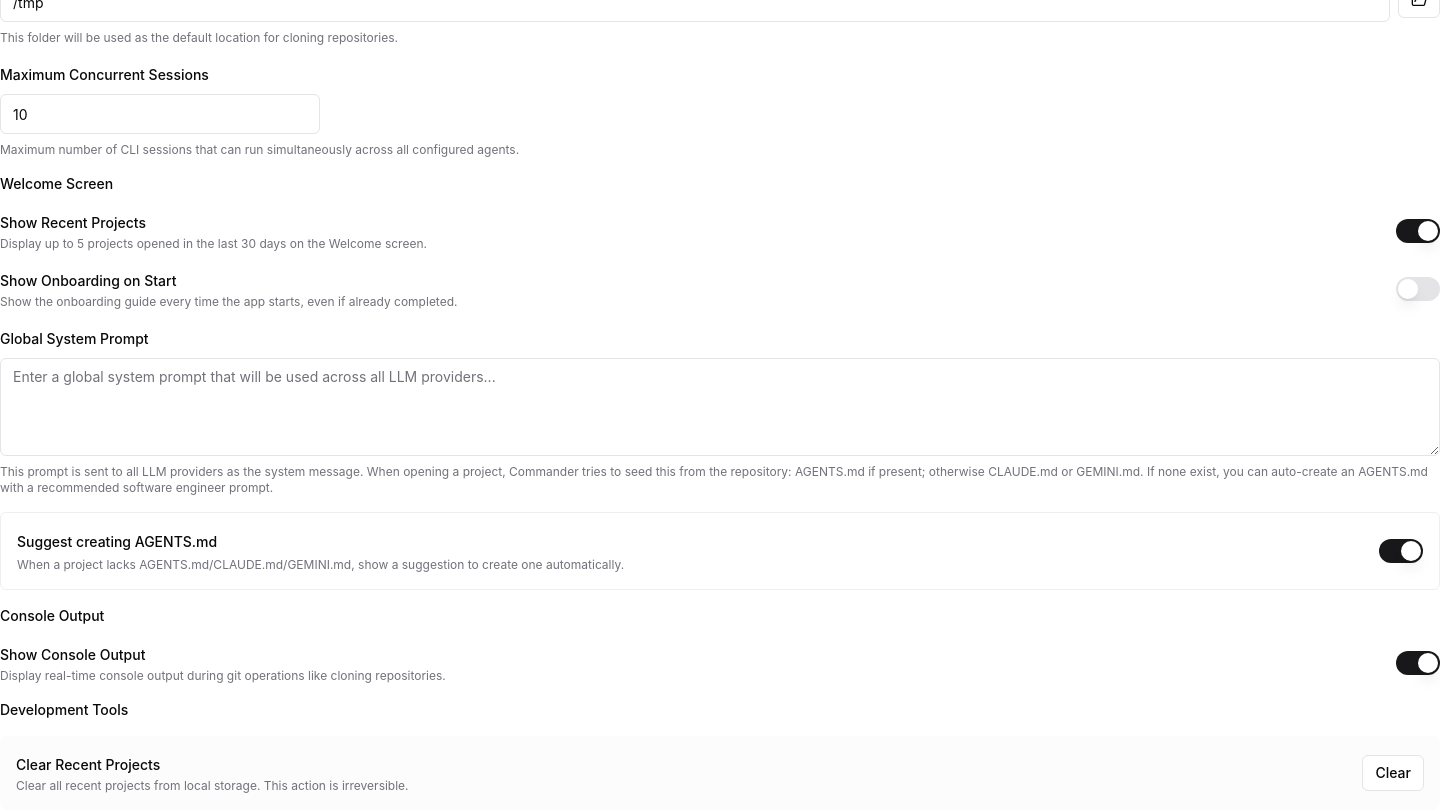
Scenario: GeneralSettings clear recent projects confirmation › opens confirmation dialog and cancels without clearing
The image size is (1440, 810).
(page scrolled)
Click the button "Clear" at point(1393, 773), box [1362,755,1424,791]
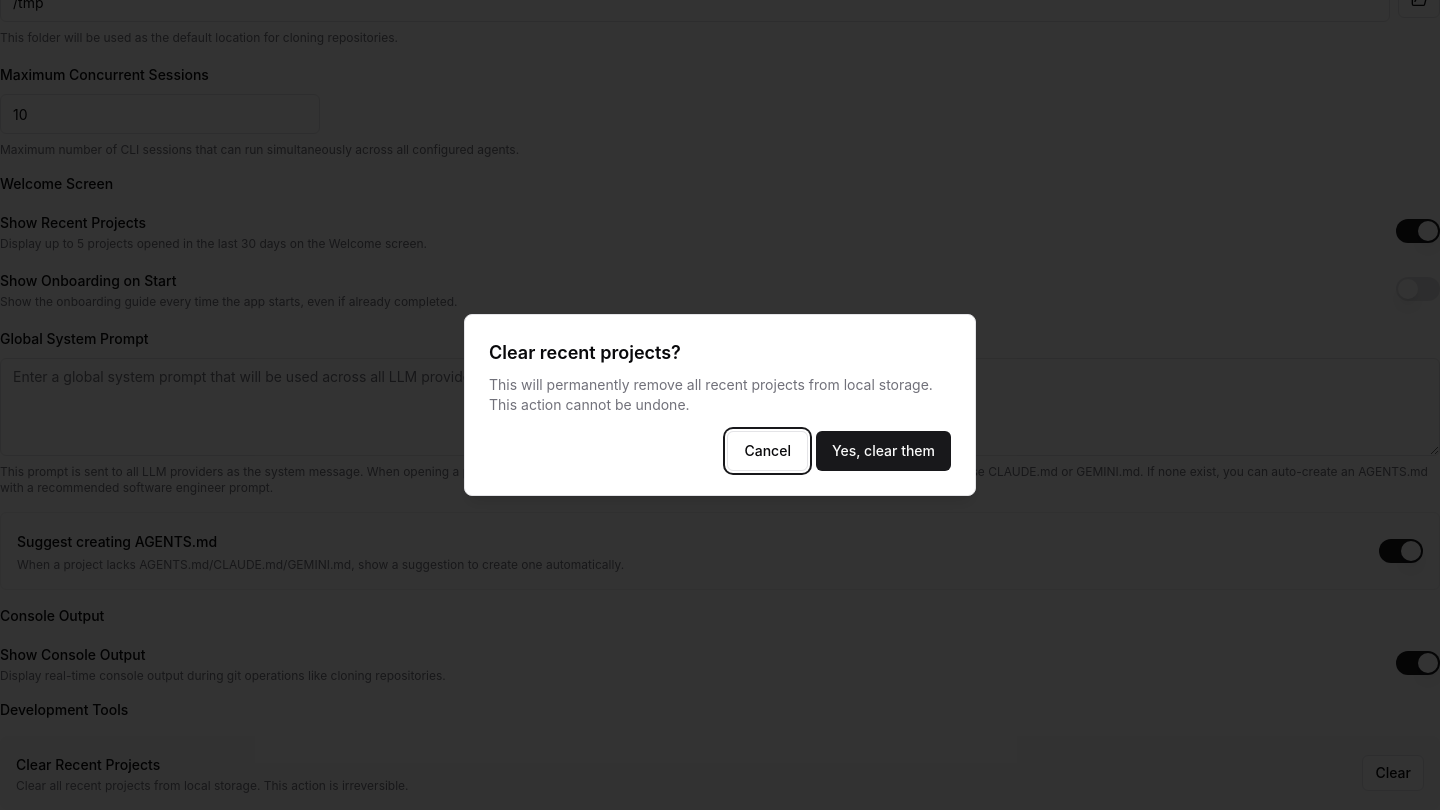
Result: the text "permanently remove all recent projects" is shown at [489,376,933,413]
Click the button "Cancel" at point(768, 451), box [728,431,808,471]
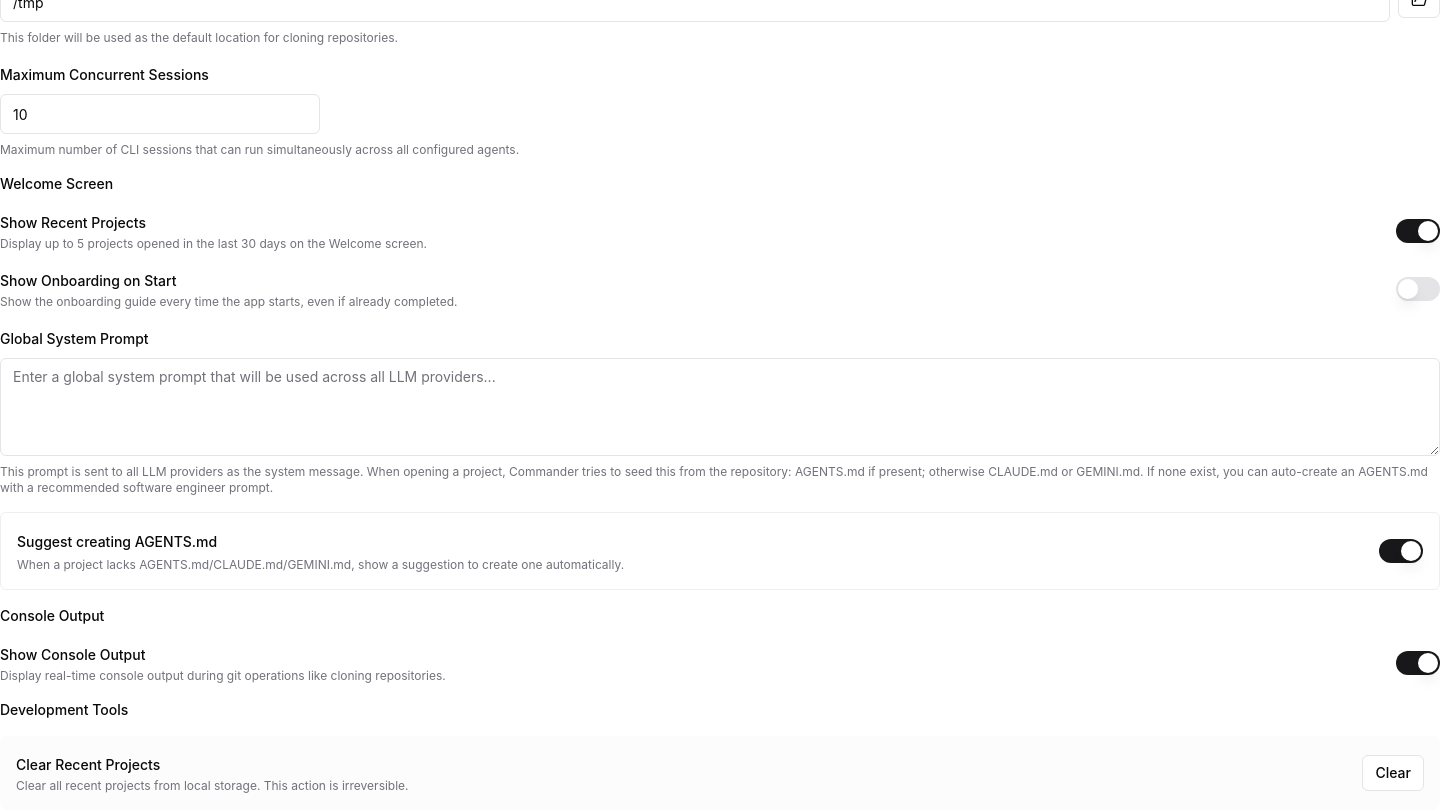
Result: the text "permanently remove all recent projects" is gone
